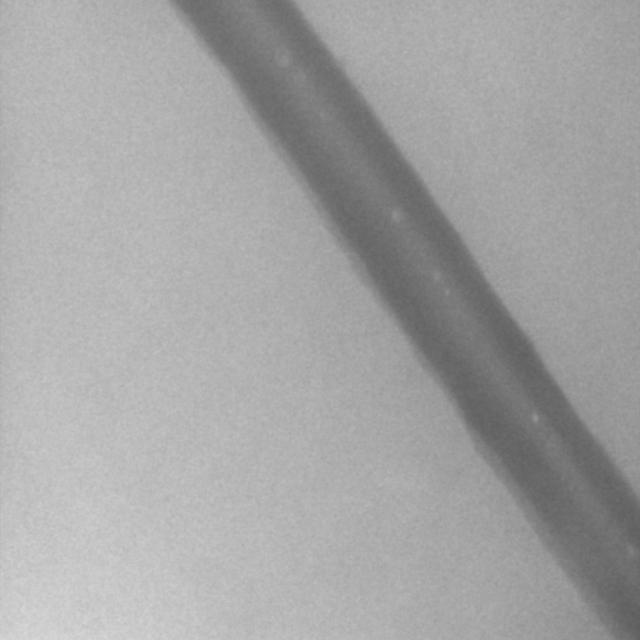air hole: (389, 206, 401, 223), (531, 414, 539, 424)
